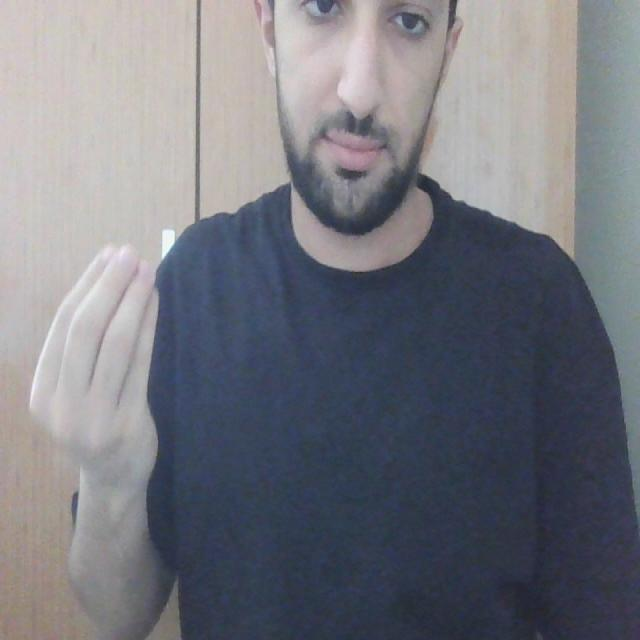iyi: (28, 235, 163, 452)
